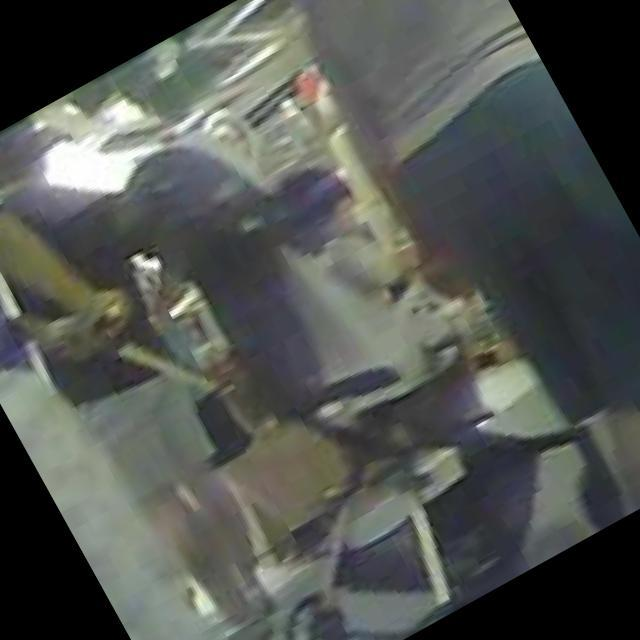person: (267, 0, 640, 543), (0, 95, 340, 640), (0, 118, 335, 640), (246, 143, 492, 450)
